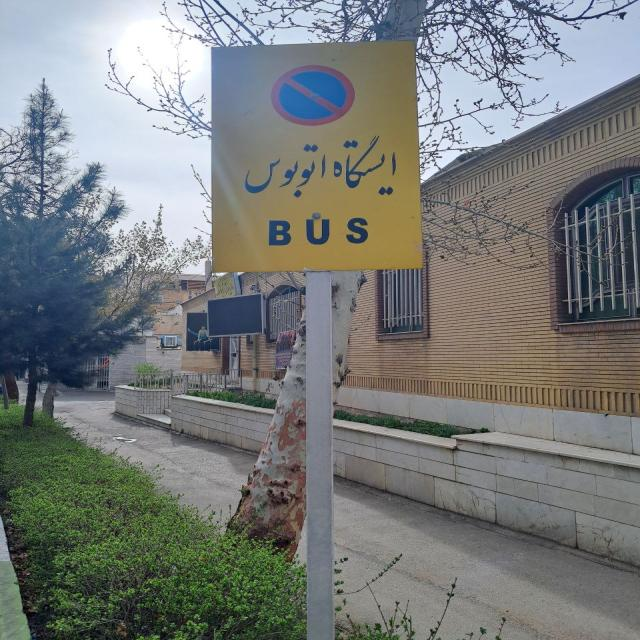bus station: (209, 49, 428, 266)
